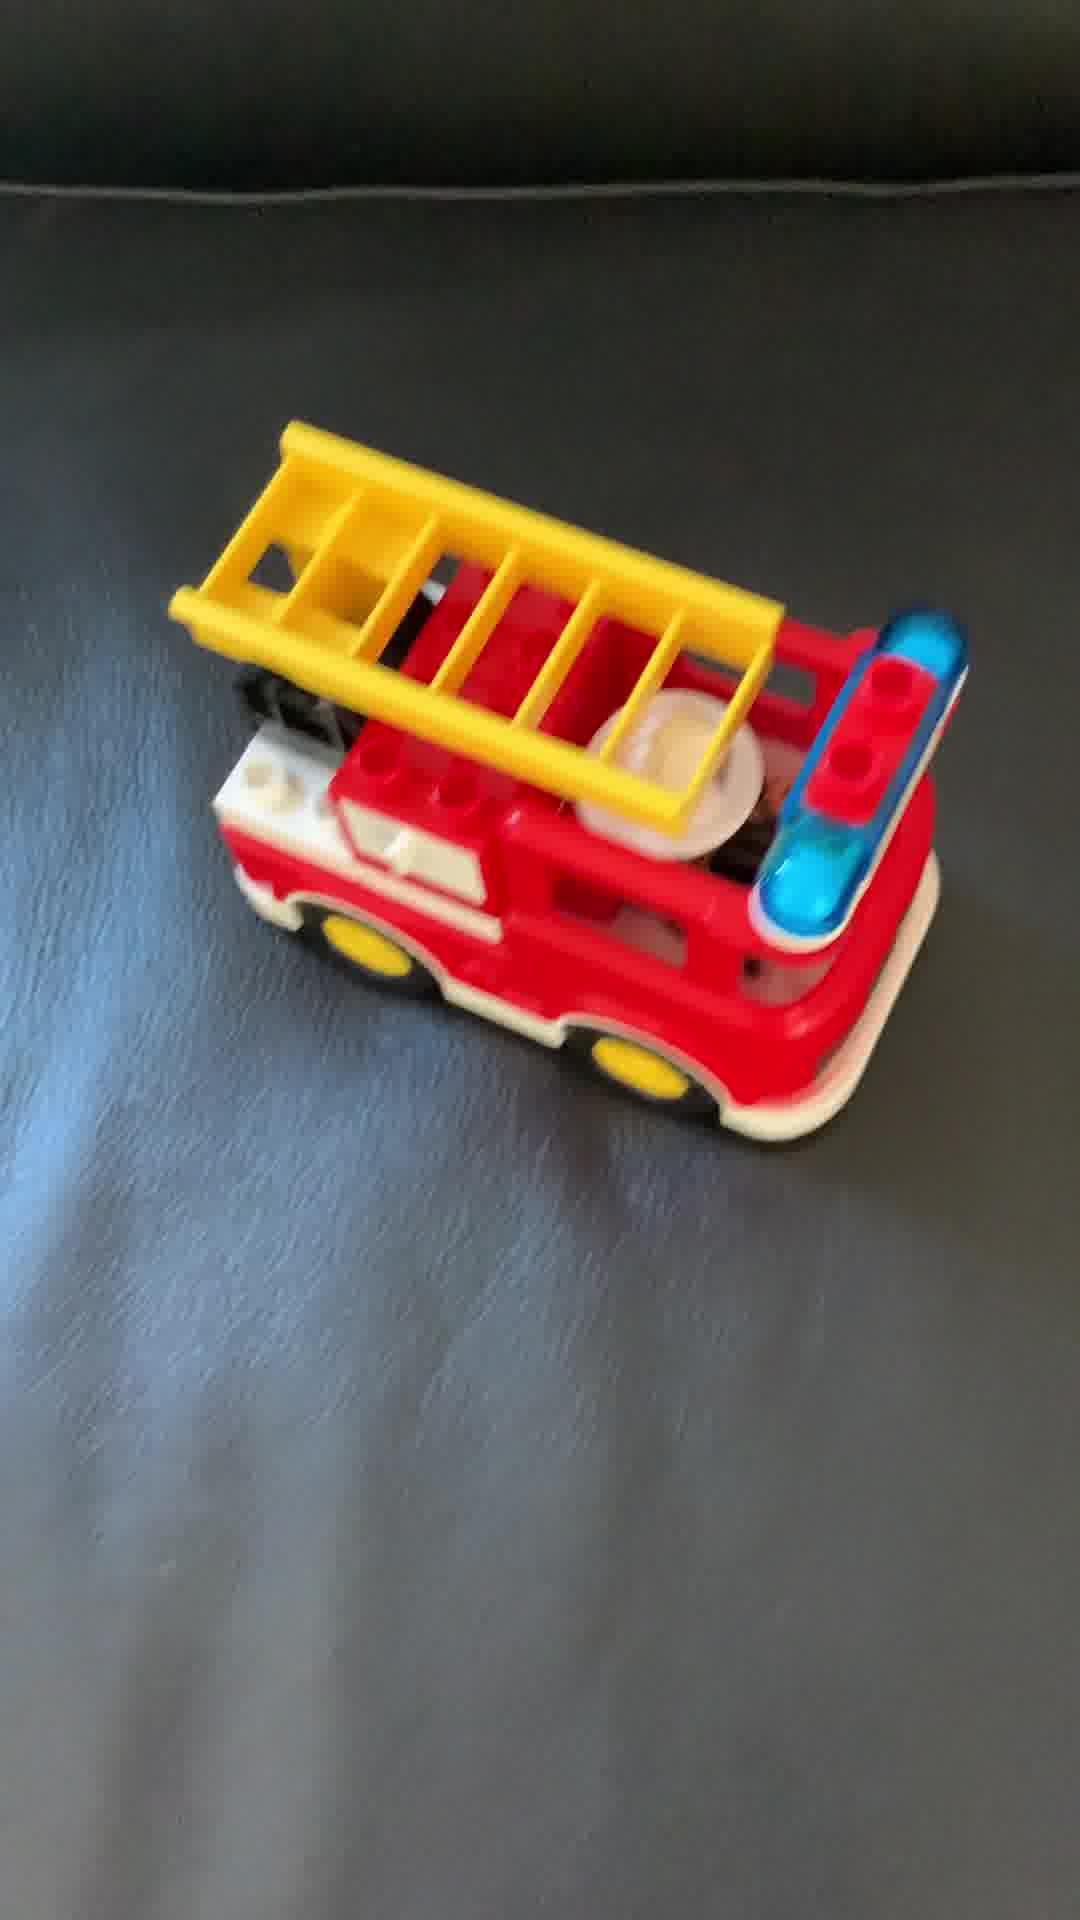lego fire truck: (157, 406, 981, 1145)
